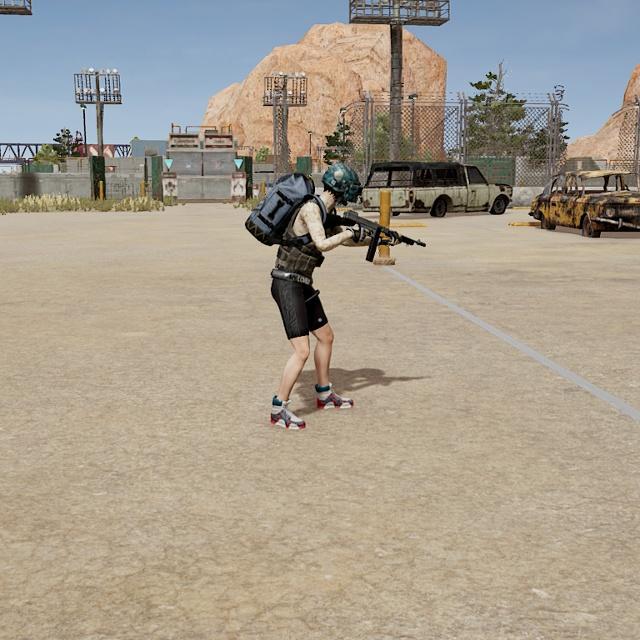head: (316, 159, 364, 211)
people: (243, 155, 368, 431)
